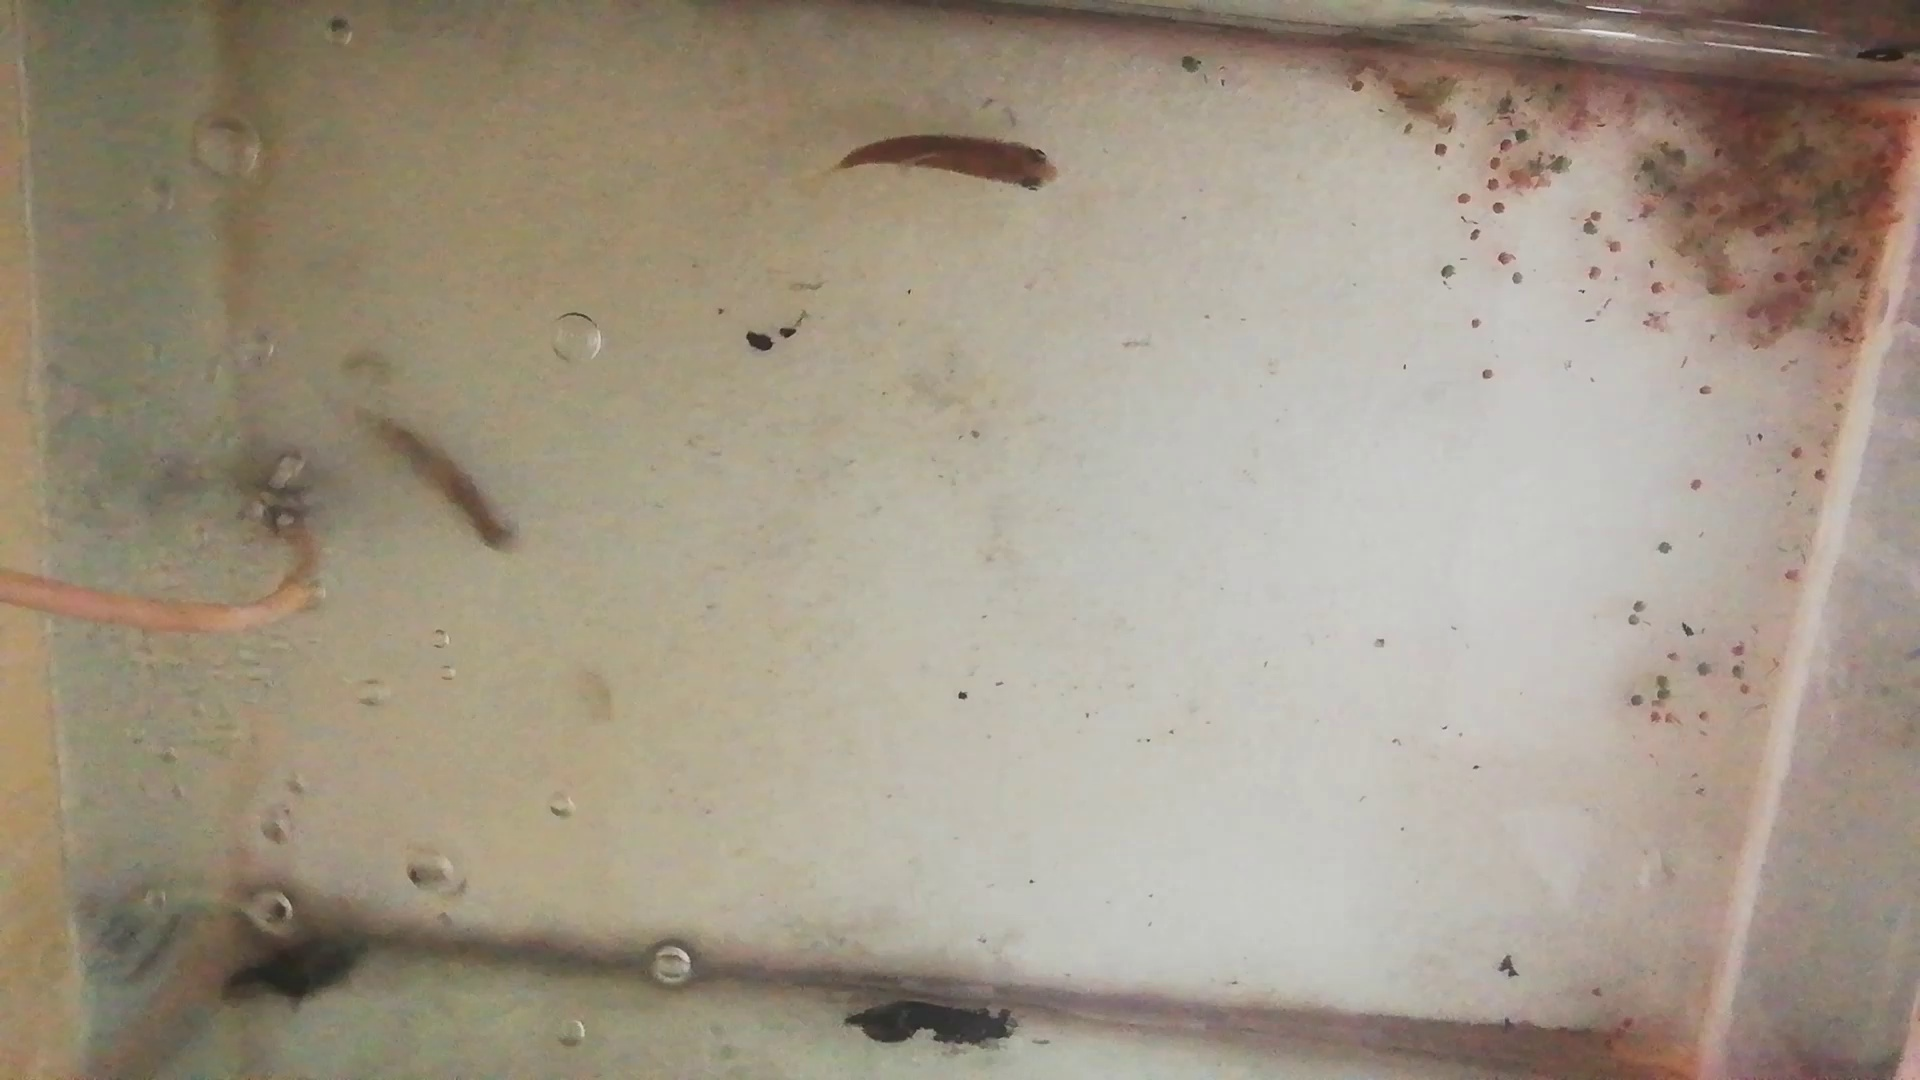fish: (361, 409, 522, 555), (828, 136, 1059, 194)
